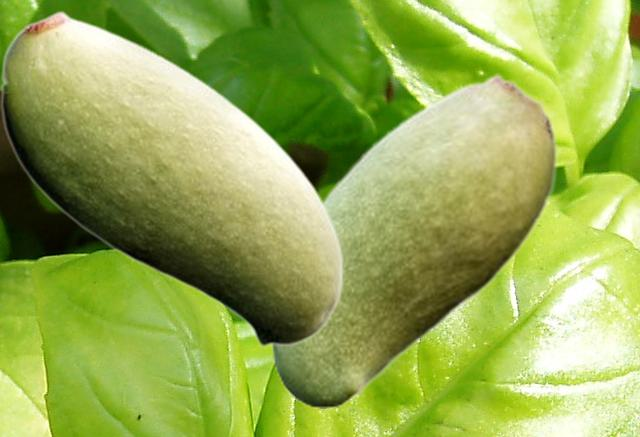green_mango: (0, 9, 343, 347), (269, 73, 557, 407)
